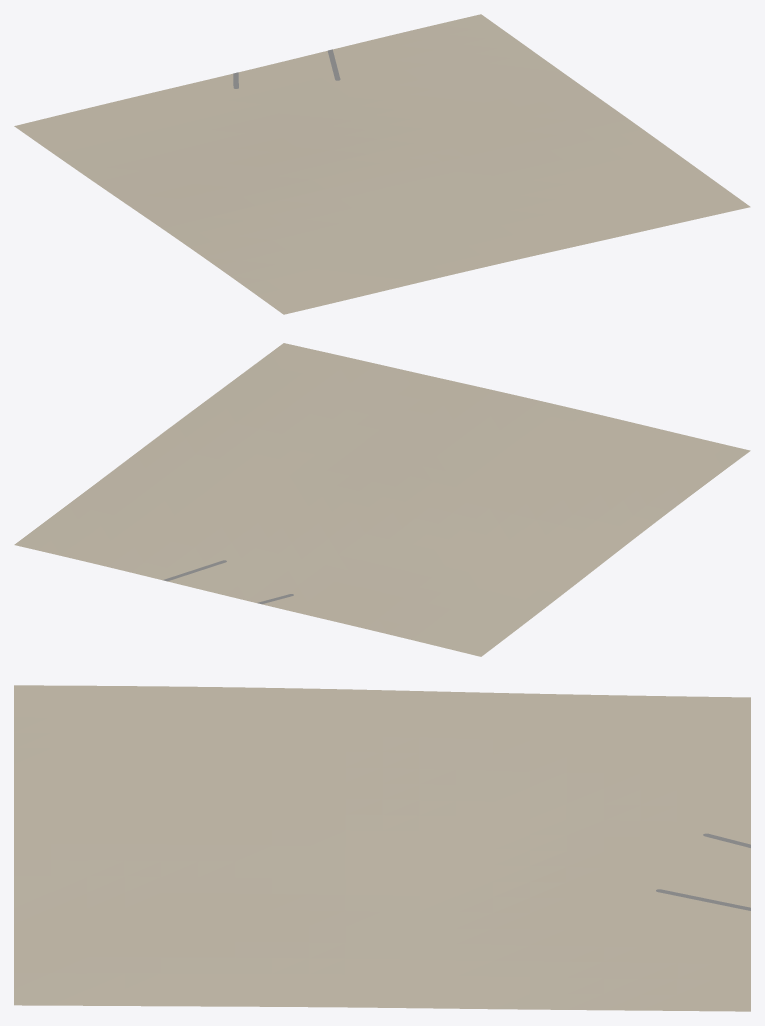
The model's file is bolak_-18_-6.glb.
3 views of the same model, one above another, from view 1: azimuth 30°, elevation 25°; view 2: azimuth 150°, elevation 25°; view 3: azimuth 270°, elevation 25° (orthographic). The views are drawn at different scales.
Parts seen in each view (by area): view 1: Yer_Tuproq-col; view 2: Yer_Tuproq-col; view 3: Yer_Tuproq-col, Yol_Mahalla-col.
Boxes of the visible parts, box(x1,y1,x2,y2) form: Yer_Tuproq-col: box(14, 14, 750, 314); Yer_Tuproq-col: box(14, 343, 750, 656); Yer_Tuproq-col: box(14, 685, 750, 1011); Yol_Mahalla-col: box(656, 833, 750, 910).
Size of what is drawn, in the model's own units: 400 by 8.87 by 400.
